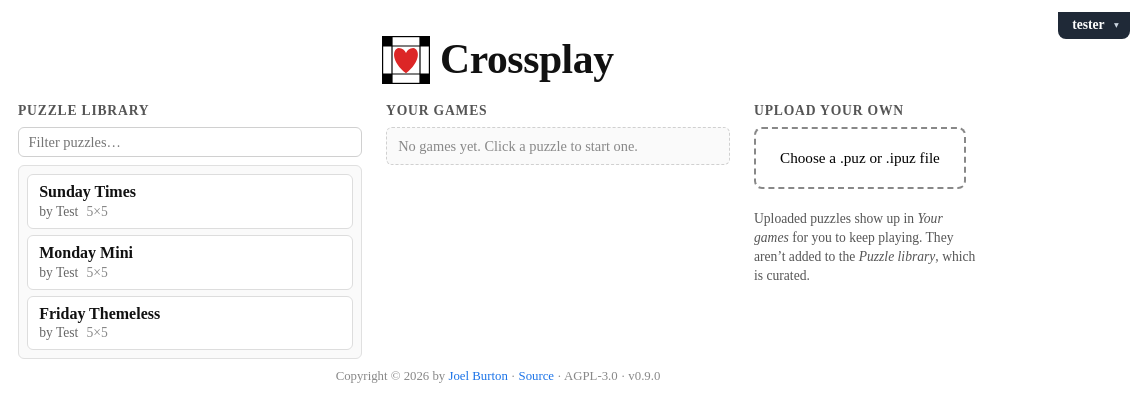
Test: HomePage › filters the puzzle library by title (case-insensitive substring)
Expected: the text "Sunday Times" is shown, [39,183,136,201]
Expected: the text "Monday Mini" is shown, [39,244,133,262]
Type "mond" into the search field named "Filter puzzle library" at (190, 142), box [18,127,362,157]
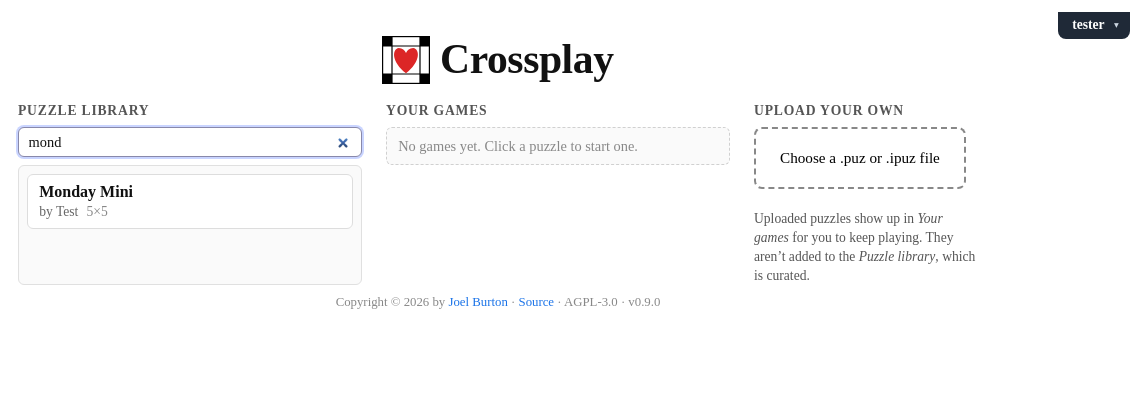
Expected: the text "Monday Mini" is shown, [39,183,133,201]
Expected: the button "Sunday Times" is gone
Expected: the button "Friday Themeless" is gone
